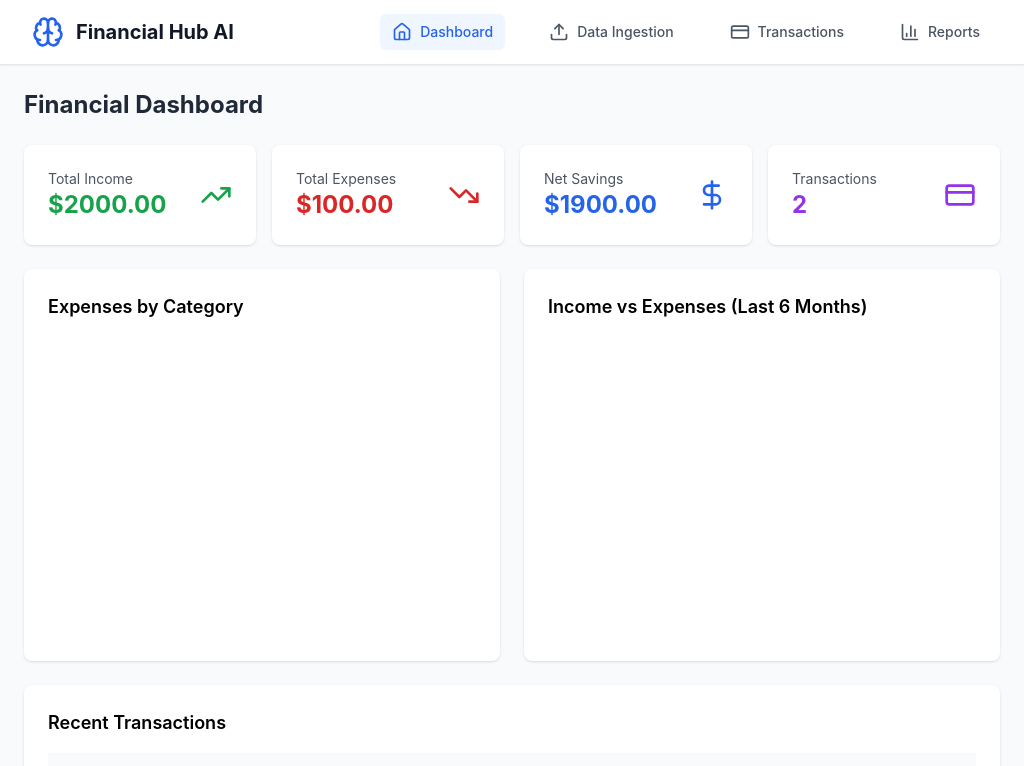
App Integration Tests › updates transaction through UI
Click the button "Transactions".
click(787, 32)  # box [718,14,856,50]
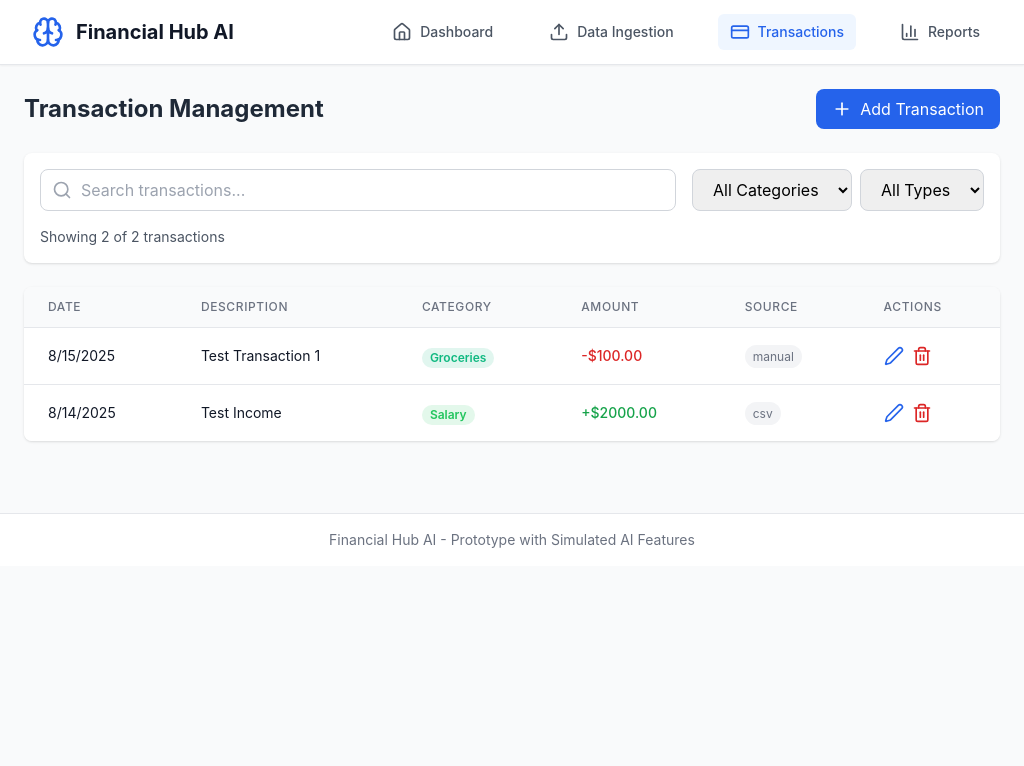
Expected: the text "Test Transaction 1" is shown, [177,328,398,384]
Expected: the heading "Transaction Management" is shown, [24,93,324,125]
